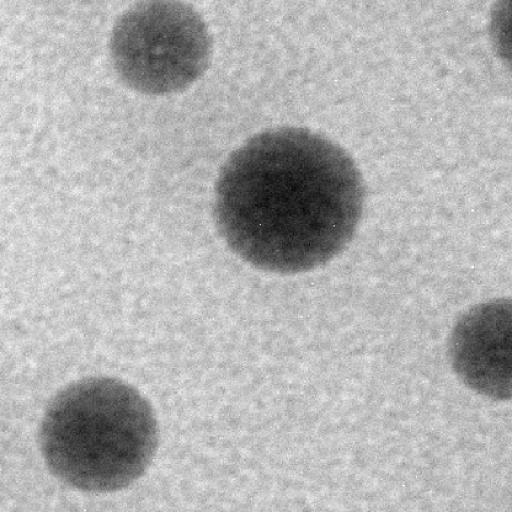Nanoparticles: (202, 118, 368, 285), (30, 369, 163, 500), (104, 0, 219, 101), (445, 296, 512, 398), (482, 0, 511, 61)
